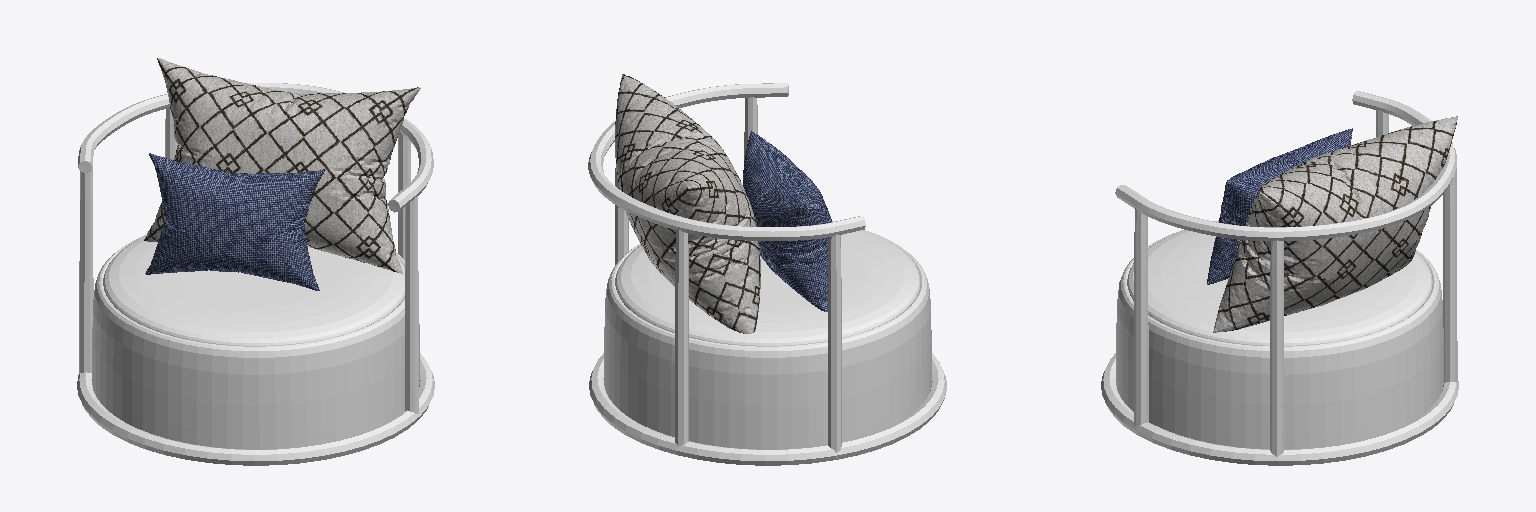
The picture shows the model from 3 angles: view 1: azimuth 30°, elevation 25°; view 2: azimuth 150°, elevation 25°; view 3: azimuth 270°, elevation 25°; orthographic projection.
Parts seen in each view (by area): view 1: Chair, Pillow_01, iron, Pillow_02; view 2: Chair, iron, Pillow_01, Pillow_02; view 3: Chair, Pillow_01, iron, Pillow_02.
Part boxes in pixels (bbox=[...]): Chair: bbox=[92, 235, 419, 449]; Pillow_01: bbox=[144, 58, 420, 273]; iron: bbox=[77, 83, 434, 465]; Pillow_02: bbox=[145, 153, 325, 290]; Chair: bbox=[604, 221, 931, 449]; iron: bbox=[588, 83, 946, 465]; Pillow_01: bbox=[615, 74, 760, 333]; Pillow_02: bbox=[743, 131, 831, 311]; Chair: bbox=[1116, 220, 1443, 449]; Pillow_01: bbox=[1213, 116, 1457, 332]; iron: bbox=[1101, 91, 1458, 465]; Pillow_02: bbox=[1207, 128, 1352, 284].
Bounding box in the file's own units: 1.2 × 1.02 × 1.2.
Materials: 3 (2 with a texture image).